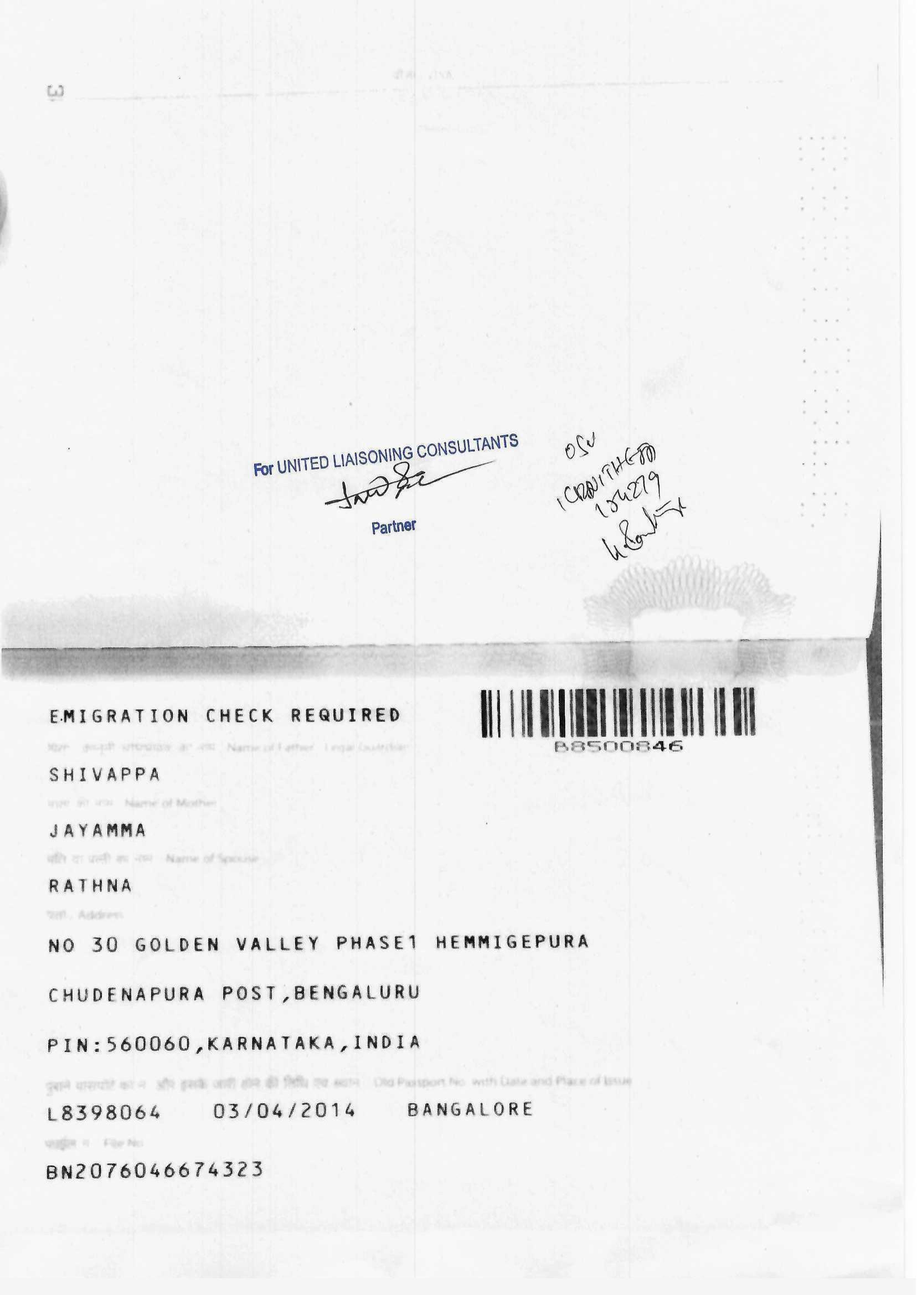File_no: (39, 1153, 293, 1189)
address: (36, 904, 604, 1066)
father_name: (36, 756, 177, 794)
mother_name: (37, 810, 162, 846)
old_passport_details: (35, 1100, 545, 1124)
passport_no: (545, 727, 703, 768)
spouse_name: (41, 867, 151, 902)
